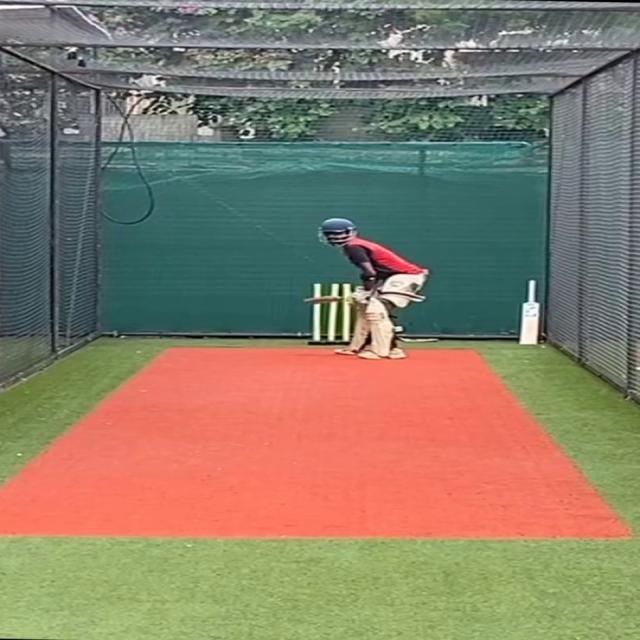stump: (307, 278, 354, 346)
